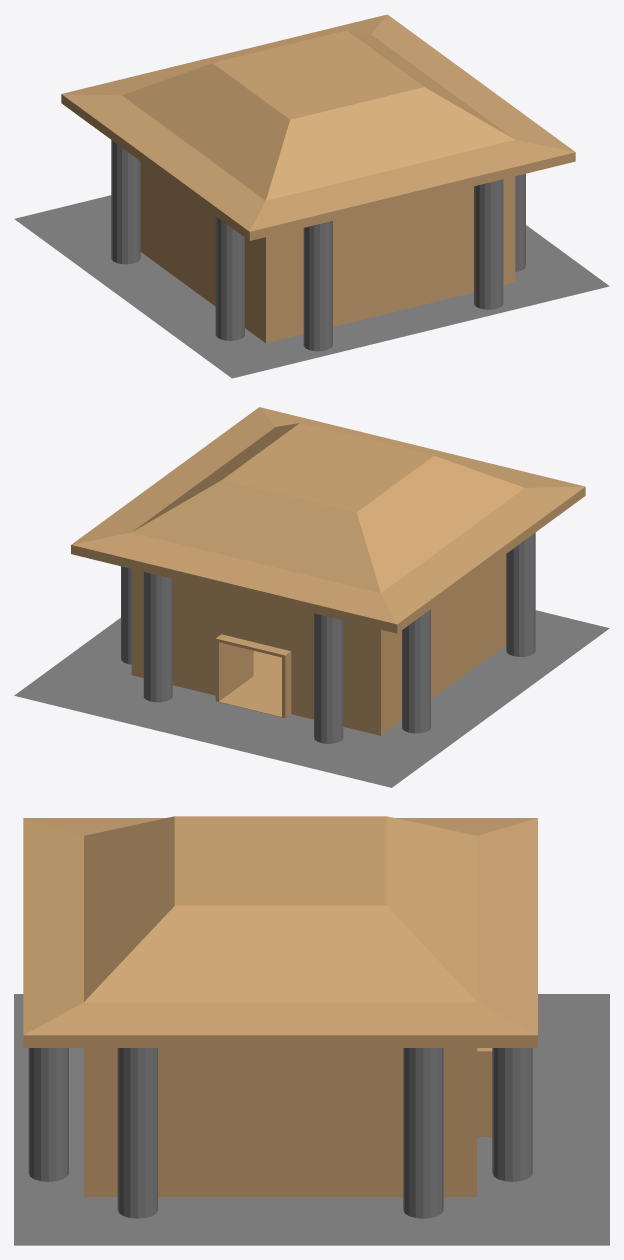
Rendered from bank.glb.
The picture shows the model from 3 angles, top to bottom: view 1: azimuth 30°, elevation 25°; view 2: azimuth 150°, elevation 25°; view 3: azimuth 270°, elevation 25°; orthographic projection. The views are drawn at different scales.
Parts seen in each view (by area): view 1: bank; view 2: bank; view 3: bank.
Part boxes in pixels (x1,y1,x2,y2): bank: (14,14,609,378); bank: (14,407,609,787); bank: (14,816,609,1245).
Bounding box in the file's own units: 43.99 × 21.1 × 43.99.
